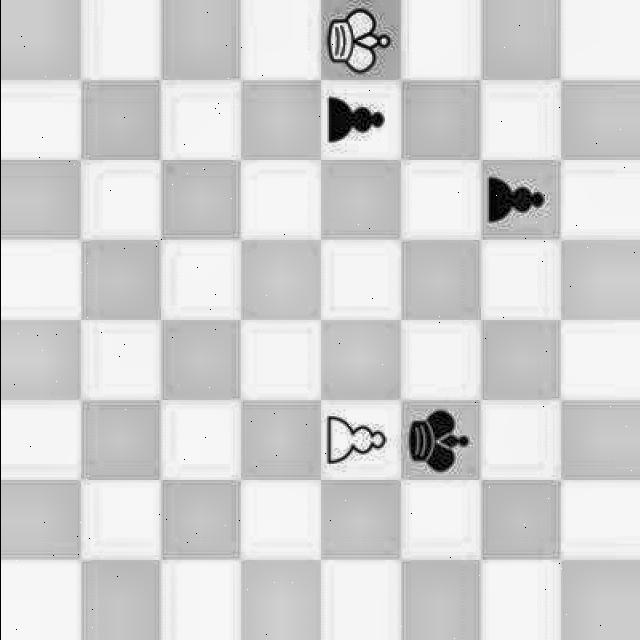black king: (401, 398, 475, 476)
black pawn: (485, 166, 565, 238), (326, 85, 402, 155)
white king: (324, 3, 391, 77)
white pawn: (326, 404, 398, 468)
